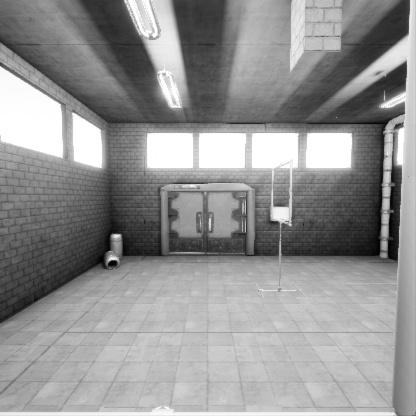gate: (271, 193, 292, 259)
